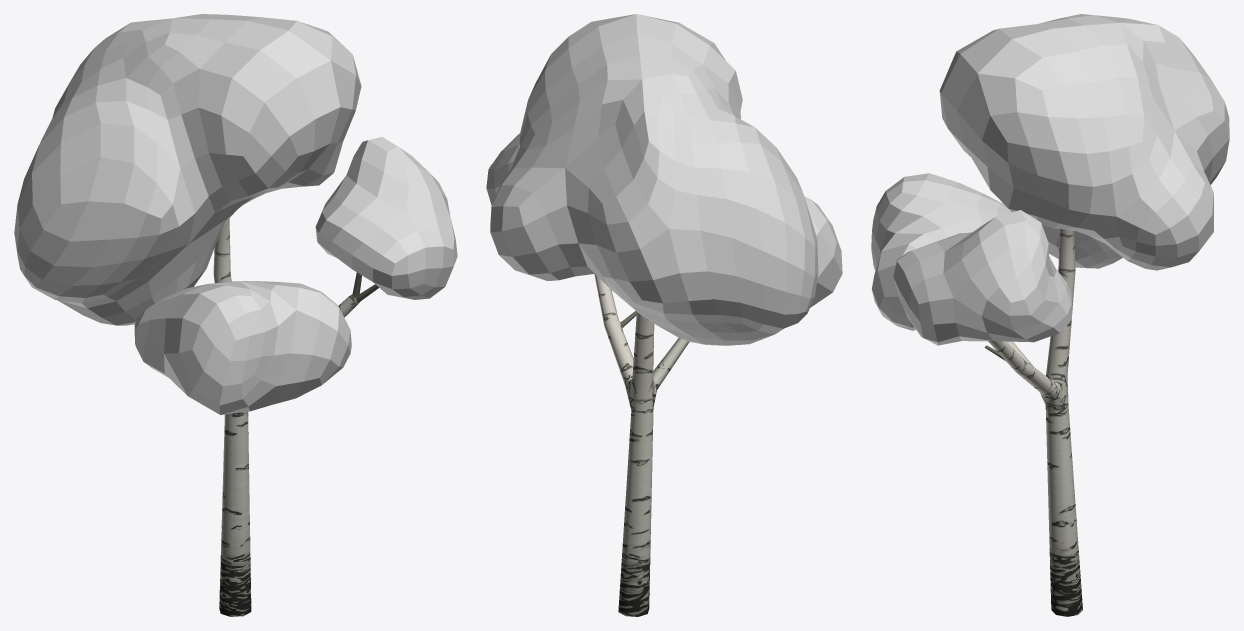
The model's file is Birch #2.fbx.
The picture shows the model from 3 angles, left to right: view 1: azimuth 30°, elevation 25°; view 2: azimuth 150°, elevation 25°; view 3: azimuth 270°, elevation 25°; orthographic projection. The views are drawn at different scales.
Parts seen in each view (by area): view 1: birch2_crown, BIRCH2_trunk; view 2: birch2_crown, BIRCH2_trunk; view 3: birch2_crown, BIRCH2_trunk.
Part boxes in pixels (x1,y1,x2,y2): birch2_crown: (14, 14, 457, 414); BIRCH2_trunk: (213, 217, 378, 616); birch2_crown: (486, 14, 842, 345); BIRCH2_trunk: (594, 274, 689, 616); birch2_crown: (871, 14, 1229, 345); BIRCH2_trunk: (985, 229, 1082, 616).
Bounding box in the file's own units: 364 × 549 × 306.
